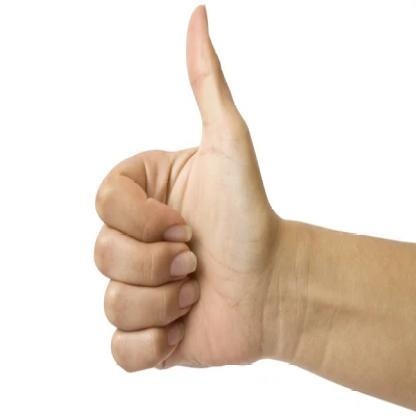thumb_up: (93, 0, 274, 374)
